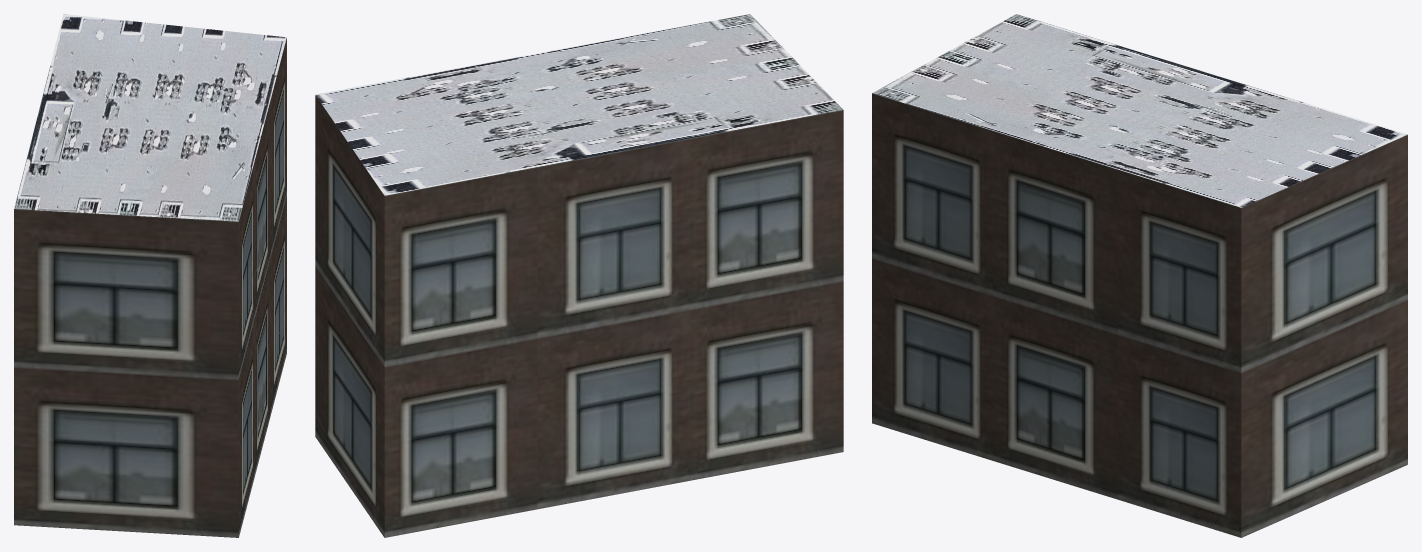
The model's file is ResTex__3002.fbx.
The picture shows the model from 3 angles, left to right: view 1: azimuth 30°, elevation 25°; view 2: azimuth 150°, elevation 25°; view 3: azimuth 270°, elevation 25°; orthographic projection. The views are drawn at different scales.
Visible parts, largest first — view 1: CityEngineMaterial_16_m, CityEngineMaterial_15_m; view 2: CityEngineMaterial_16_m, CityEngineMaterial_15_m; view 3: CityEngineMaterial_16_m, CityEngineMaterial_15_m.
Boxes of the visible parts, x1,y1,x2,y2 form: CityEngineMaterial_16_m: [14, 38, 286, 537]; CityEngineMaterial_15_m: [14, 14, 286, 221]; CityEngineMaterial_16_m: [315, 95, 843, 537]; CityEngineMaterial_15_m: [315, 14, 843, 195]; CityEngineMaterial_16_m: [872, 93, 1407, 537]; CityEngineMaterial_15_m: [872, 14, 1407, 207].
Size of the model in its own units: 7.56 by 6 by 8.83.
2 materials, 2 textured.
